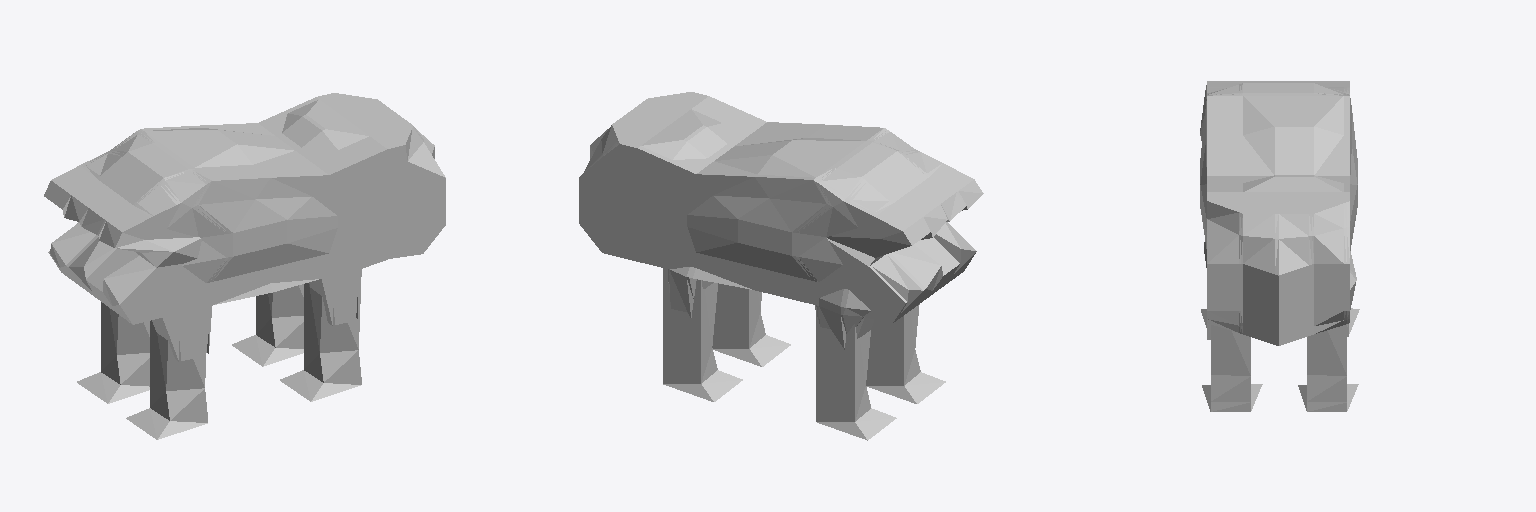
Rendered from dog.obj.
3 views of the same model, side by side, from view 1: azimuth 30°, elevation 25°; view 2: azimuth 150°, elevation 25°; view 3: azimuth 270°, elevation 25° (orthographic).
Parts seen in each view (by area): view 1: Cube, leg3, leg1, leg2, leg4_fleg4; view 2: Cube, leg2, leg4_fleg4, leg1, leg3; view 3: Cube, leg4_fleg4, leg3.
Part boxes in pixels (left/top/right/bottom): Cube: left=44, top=93, right=445, bottom=361; leg3: left=280, top=269, right=361, bottom=401; leg1: left=126, top=320, right=207, bottom=439; leg2: left=77, top=302, right=149, bottom=403; leg4_fleg4: left=232, top=284, right=303, bottom=366; Cube: left=579, top=92, right=983, bottom=349; leg2: left=816, top=311, right=896, bottom=440; leg4_fleg4: left=663, top=268, right=742, bottom=401; leg1: left=866, top=304, right=945, bottom=403; leg3: left=712, top=283, right=790, bottom=366; Cube: left=1200, top=81, right=1357, bottom=345; leg4_fleg4: left=1298, top=324, right=1358, bottom=411; leg3: left=1202, top=325, right=1262, bottom=411.
Size of the model in its own units: 5.77 by 3.75 by 2.25.